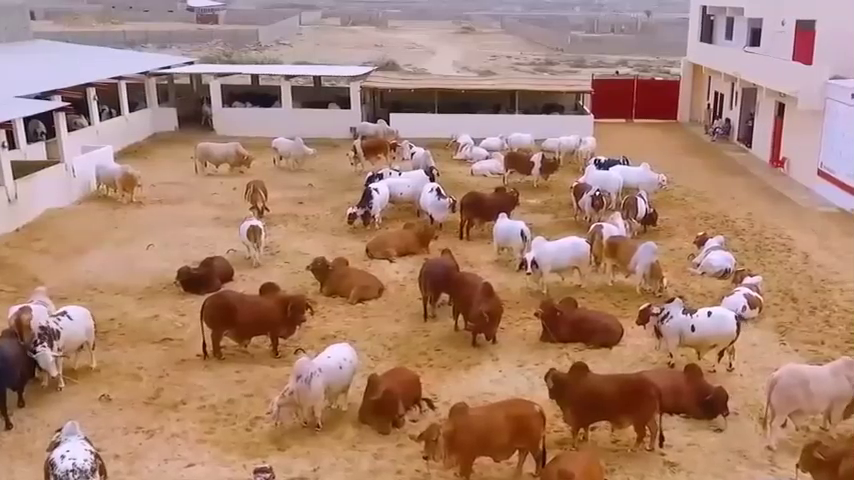bo: (541, 361, 672, 460), (420, 390, 547, 472), (196, 281, 312, 360), (761, 356, 854, 454), (270, 336, 357, 438), (635, 297, 745, 369), (527, 287, 632, 354), (635, 355, 731, 428), (30, 305, 101, 391), (444, 268, 512, 352), (518, 229, 597, 294), (595, 230, 673, 295), (358, 357, 422, 436), (36, 417, 120, 476), (300, 250, 386, 305), (457, 179, 529, 233), (414, 240, 462, 316), (372, 163, 441, 215), (2, 330, 36, 433), (336, 174, 389, 235), (683, 221, 735, 281), (168, 247, 238, 291), (365, 220, 439, 261), (488, 209, 540, 267), (720, 260, 767, 322), (228, 208, 276, 268), (89, 156, 147, 205), (587, 209, 646, 256), (787, 436, 850, 480), (262, 127, 318, 175), (8, 283, 56, 339), (414, 178, 461, 234), (611, 154, 667, 201), (392, 129, 442, 180), (560, 173, 607, 227), (190, 136, 254, 175), (615, 183, 664, 232), (235, 164, 277, 221), (340, 128, 395, 163), (577, 161, 624, 199), (350, 112, 397, 141), (15, 114, 51, 149), (498, 122, 534, 157), (535, 127, 574, 158), (57, 101, 89, 136), (573, 128, 605, 160), (479, 126, 507, 154), (453, 138, 485, 161), (447, 128, 472, 155)
